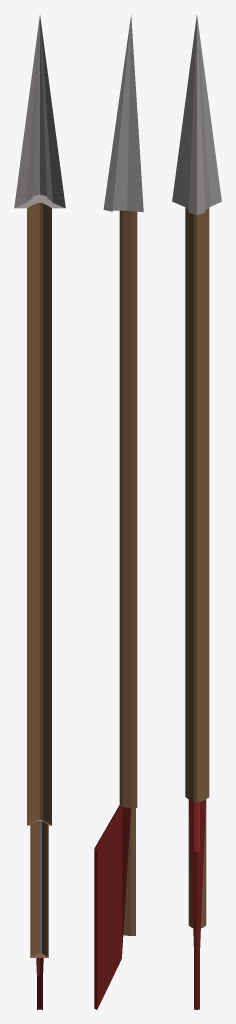
Rendered from Arrow.dae.
3 renders of one model, left to right at view 1: azimuth 90°, elevation 25°; view 2: azimuth 210°, elevation 25°; view 3: azimuth 270°, elevation 25°, orthographic. The views are drawn at different scales.
Visible parts, largest first — view 1: Cylinder; view 2: Cylinder; view 3: Cylinder.
Boxes of the visible parts, x1,y1,x2,y2 form: Cylinder: (14, 15, 65, 1009); Cylinder: (94, 15, 143, 1009); Cylinder: (172, 15, 221, 1009).
Size of the model in its own units: 0.0658 by 0.0785 by 1.7.
